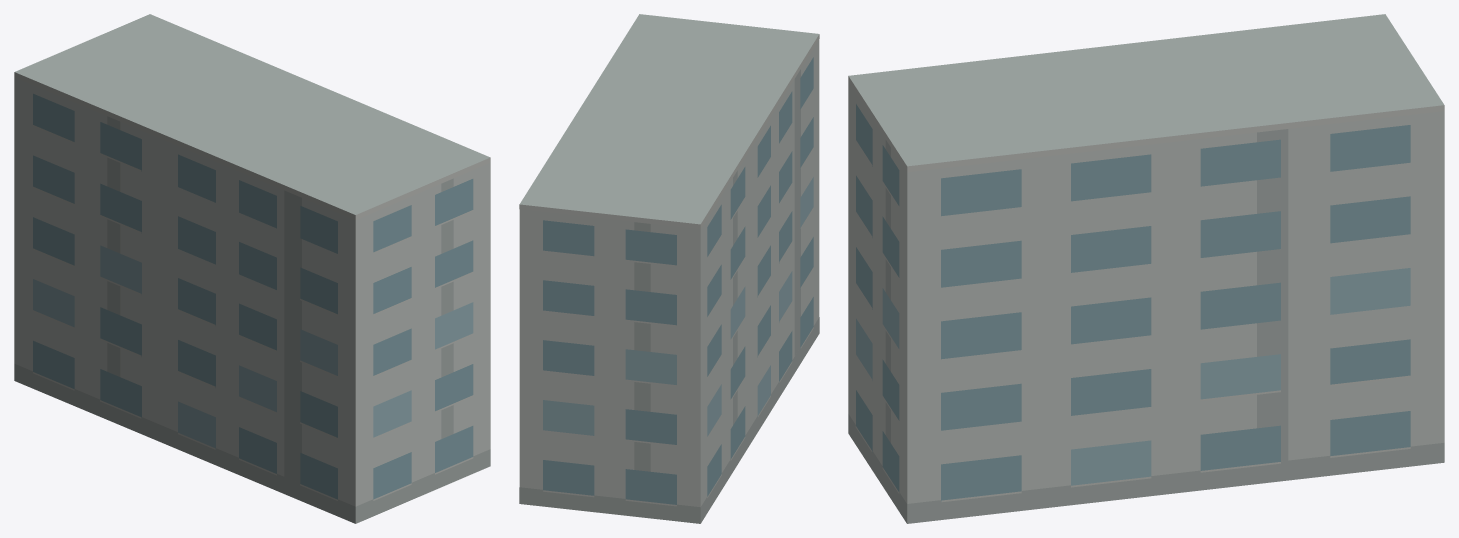
The model's file is survey-upis-32621484.glb.
3 views of the same model, side by side, from view 1: azimuth 30°, elevation 25°; view 2: azimuth 150°, elevation 25°; view 3: azimuth 270°, elevation 25° (orthographic). The views are drawn at different scales.
Visible parts, largest first — view 1: survey-upis-32621484.tmp; view 2: survey-upis-32621484.tmp; view 3: survey-upis-32621484.tmp.
Part boxes in pixels (left/top/right/bottom): survey-upis-32621484.tmp: left=14, top=14, right=490, bottom=523; survey-upis-32621484.tmp: left=519, top=14, right=819, bottom=523; survey-upis-32621484.tmp: left=848, top=14, right=1444, bottom=523.
Bounding box in the file's own units: 13.26 × 14.5 × 21.92.
